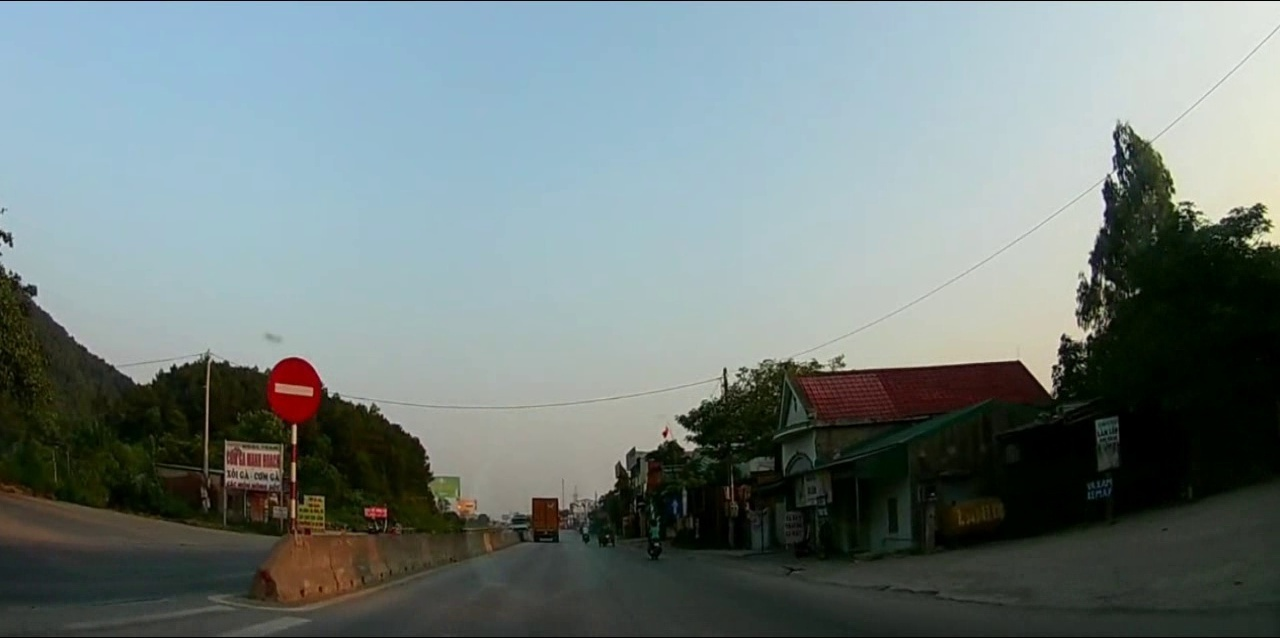Cam di nguoc chieu: (265, 357, 322, 423)
